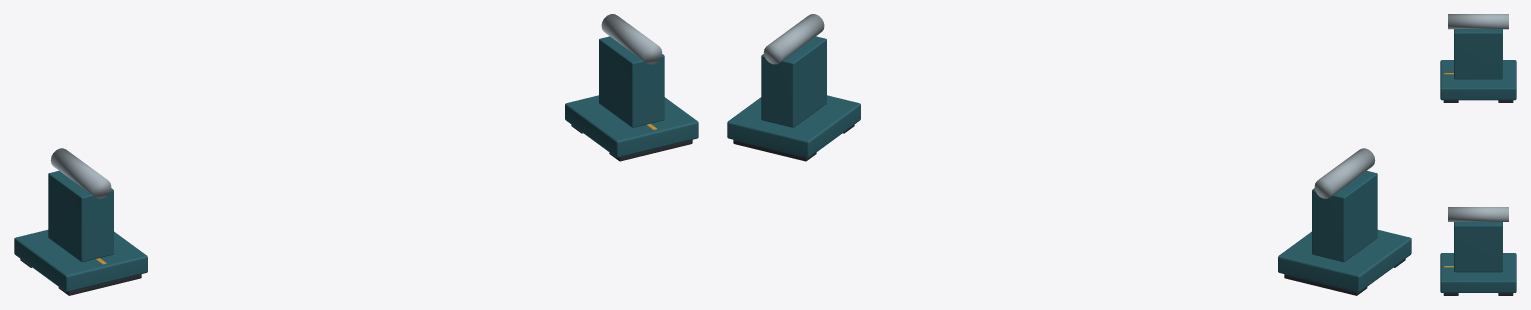
File: VLAB_support_pair.fbx
3 renders of one model, left to right at view 1: azimuth 30°, elevation 25°; view 2: azimuth 150°, elevation 25°; view 3: azimuth 270°, elevation 25°, orthographic. The views are drawn at different scales.
Visible parts, largest first — view 1: VLAB_support_pair_SupportL_VIS, VLAB_support_pair_SupportR_VIS; view 2: VLAB_support_pair_SupportL_VIS, VLAB_support_pair_SupportR_VIS; view 3: VLAB_support_pair_SupportL_VIS, VLAB_support_pair_SupportR_VIS.
Part boxes in pixels (<box>): VLAB_support_pair_SupportL_VIS: <box>14,148,147,295</box>; VLAB_support_pair_SupportR_VIS: <box>565,14,698,161</box>; VLAB_support_pair_SupportL_VIS: <box>1278,148,1411,295</box>; VLAB_support_pair_SupportR_VIS: <box>727,14,860,161</box>; VLAB_support_pair_SupportL_VIS: <box>1440,14,1516,102</box>; VLAB_support_pair_SupportR_VIS: <box>1440,207,1516,295</box>.
Size of the model in its own units: 0.345 by 0.055 by 0.05.
